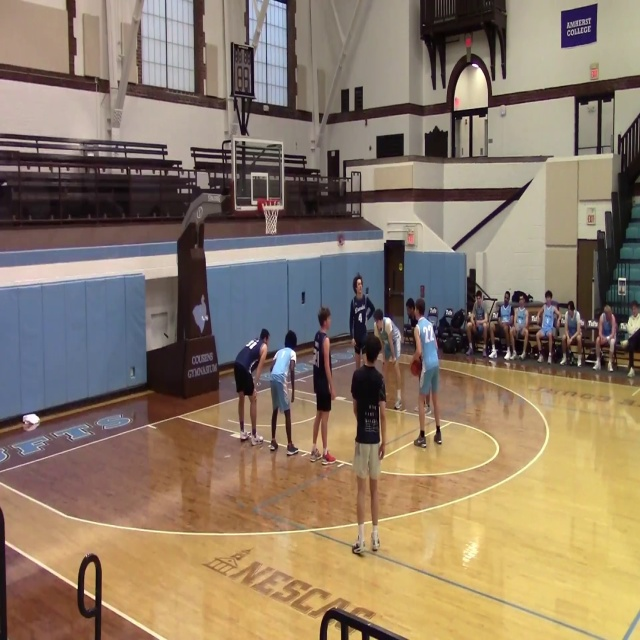Basketball: (22, 413, 40, 432), (410, 358, 422, 377), (23, 413, 40, 426)
